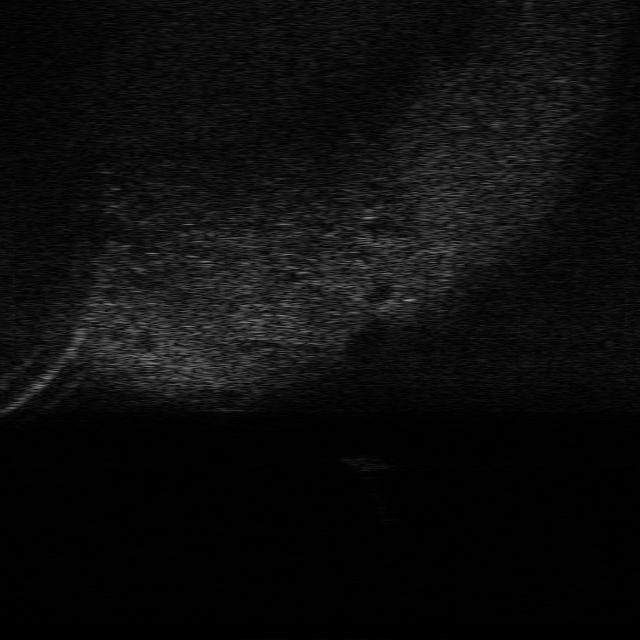cube: (338, 456, 394, 474)
